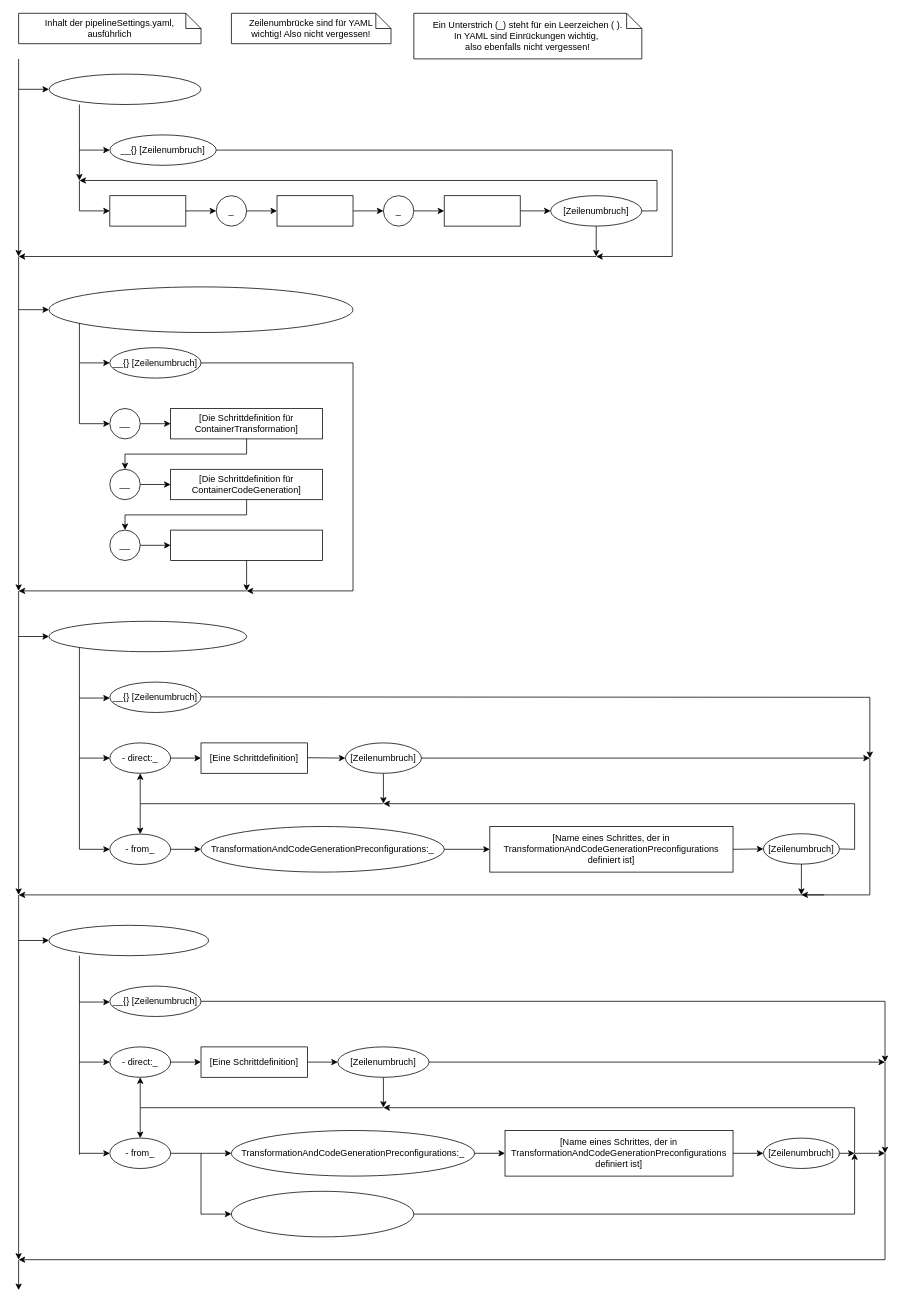
Image size: 904x1309. Some labels were removed from this diagram. The centre of each missing label's shape, as x and y in pixels:
"[Die Schrittdefinition für ComponentCodeGeneration]" goes at [246,544].
"PipelineSequence: [Zeilenumbruch]" goes at [128,940].
"PostProcessingSequence: [Zeilenumbruch]" goes at [147,636].
"StandalonePostProcessingSequence:_all" goes at [322,1214].
"TransformationAndCodeGenerationPreconfigurations:[Zeilenumbruch]" goes at [200,309].
"VariableDefs:[Zeilenumbruch]" goes at [124,88].
"Variablenname" goes at [314,210].
"Variablentyp" goes at [147,210].
"Variablenwert" goes at [481,210].
